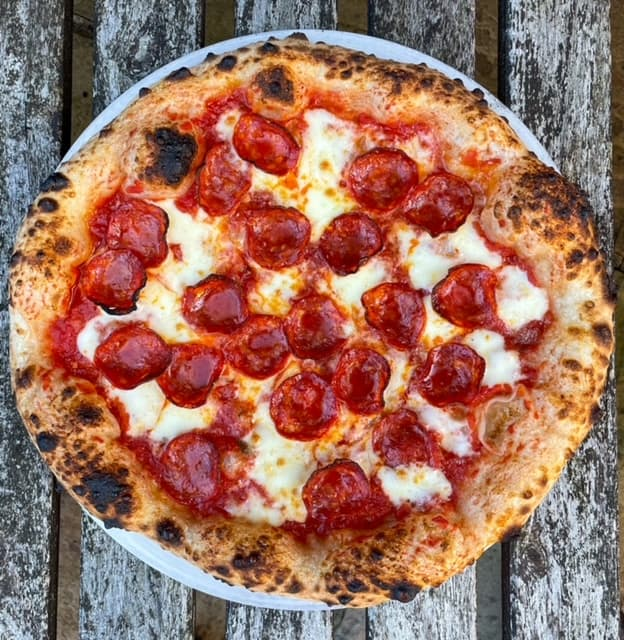Pepperoni: (151, 435, 223, 515), (158, 335, 223, 413), (403, 172, 480, 237), (347, 146, 417, 217), (223, 311, 291, 380), (92, 326, 163, 392), (357, 288, 431, 350), (79, 252, 150, 315), (194, 144, 253, 219), (320, 211, 384, 278), (434, 264, 501, 328), (371, 408, 436, 473), (110, 197, 170, 267), (413, 342, 478, 406), (332, 340, 387, 415), (247, 203, 311, 267), (303, 459, 365, 525), (269, 374, 334, 436), (182, 277, 250, 335), (284, 294, 344, 359), (235, 111, 292, 176)
Pizza: (10, 35, 619, 609)
